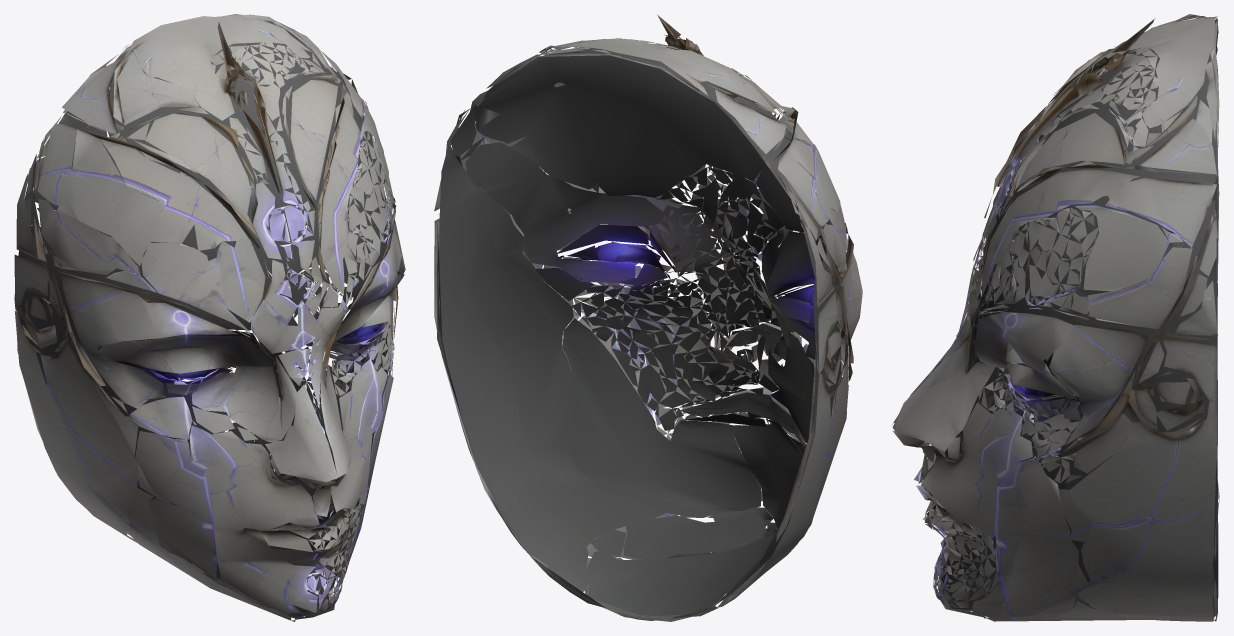
File: Mask_1.fbx
The picture shows the model from 3 angles, left to right: view 1: azimuth 30°, elevation 25°; view 2: azimuth 150°, elevation 25°; view 3: azimuth 270°, elevation 25°; orthographic projection. The views are drawn at different scales.
Parts seen in each view (by area): view 1: Mask_1; view 2: Mask_1; view 3: Mask_1.
Boxes of the visible parts, x1,y1,x2,y2 form: Mask_1: [14, 14, 405, 621]; Mask_1: [434, 14, 862, 621]; Mask_1: [892, 14, 1219, 621].
Size of the model in its own units: 0.1518 by 0.22 by 0.1101.
1 material, 1 textured.
